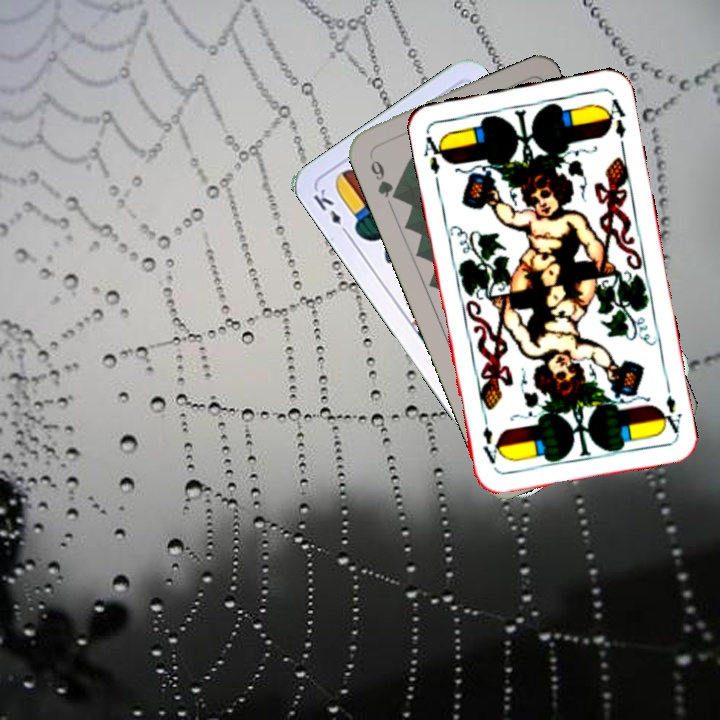EA: (656, 378, 685, 436), (420, 127, 449, 177)
EK: (309, 184, 352, 239)
G9: (365, 149, 402, 203)
